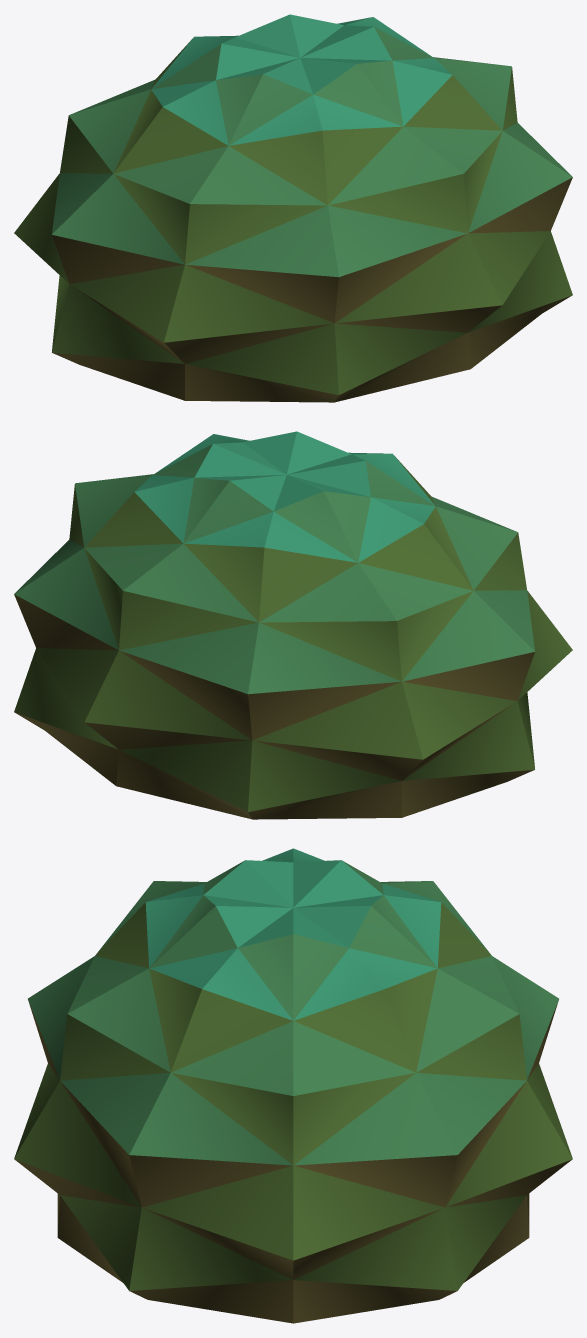
Rendered from mesh_Bush.fbx.
The picture shows the model from 3 angles, top to bottom: view 1: azimuth 30°, elevation 25°; view 2: azimuth 150°, elevation 25°; view 3: azimuth 270°, elevation 25°; orthographic projection. The views are drawn at different scales.
Parts seen in each view (by area): view 1: pSphere1; view 2: pSphere1; view 3: pSphere1.
Part boxes in pixels (x1=…): pSphere1: x1=14, y1=14, x2=572, y2=402; pSphere1: x1=14, y1=431, x2=572, y2=819; pSphere1: x1=14, y1=848, x2=572, y2=1323.
Size of the model in its own units: 1.44 by 0.7633 by 1.19.
